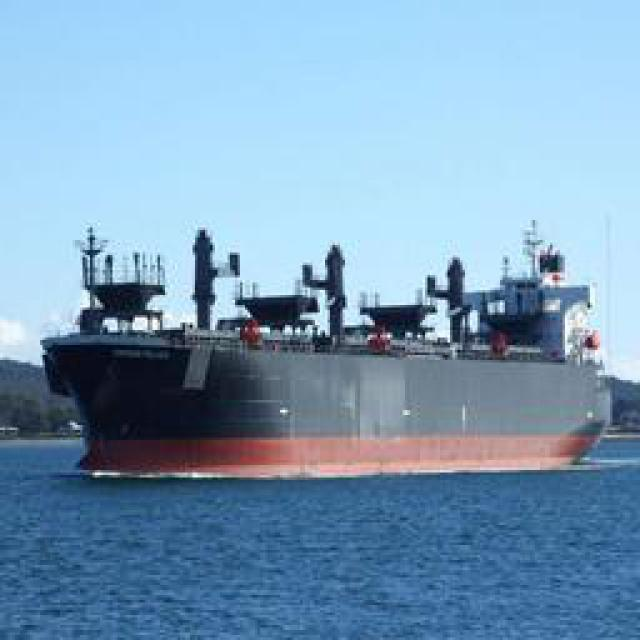Ship: (56, 232, 614, 482)
